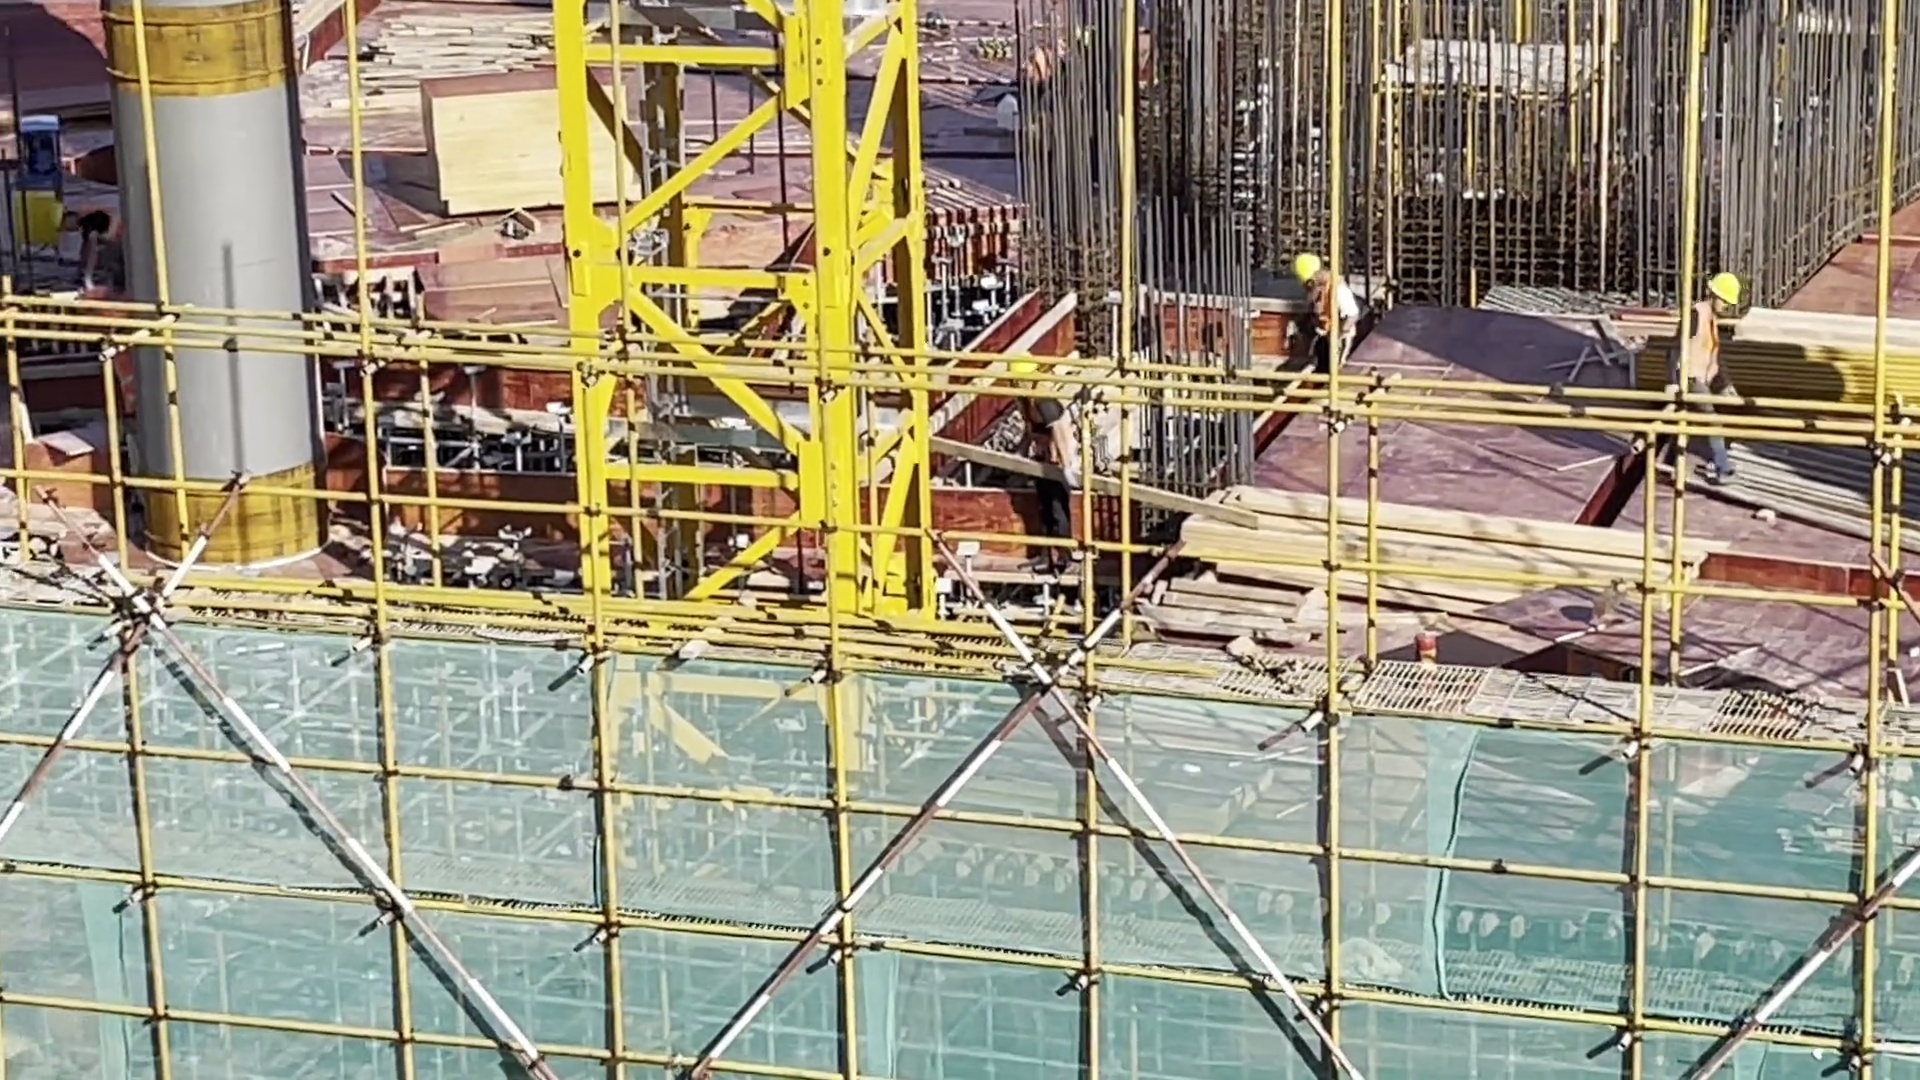board: (1166, 482, 1655, 702)
helmet: (1705, 267, 1740, 309), (1287, 244, 1321, 287), (49, 204, 67, 227)
person: (1677, 273, 1741, 488), (1286, 248, 1369, 371), (35, 199, 130, 291)
vest: (1312, 278, 1362, 360), (1693, 308, 1734, 394)
